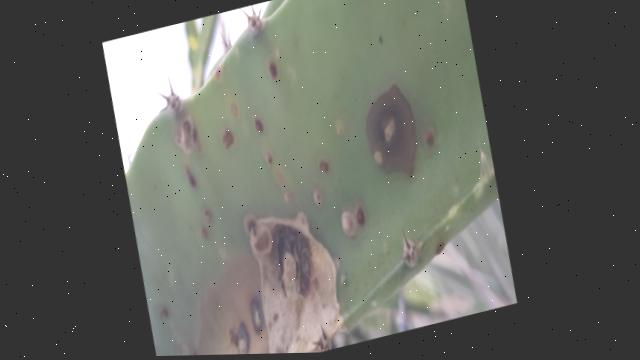stemcanker: (233, 209, 344, 351), (362, 75, 425, 188), (339, 202, 369, 241), (259, 48, 286, 84), (215, 124, 239, 155), (180, 160, 201, 195), (250, 114, 270, 139), (316, 155, 333, 179)
